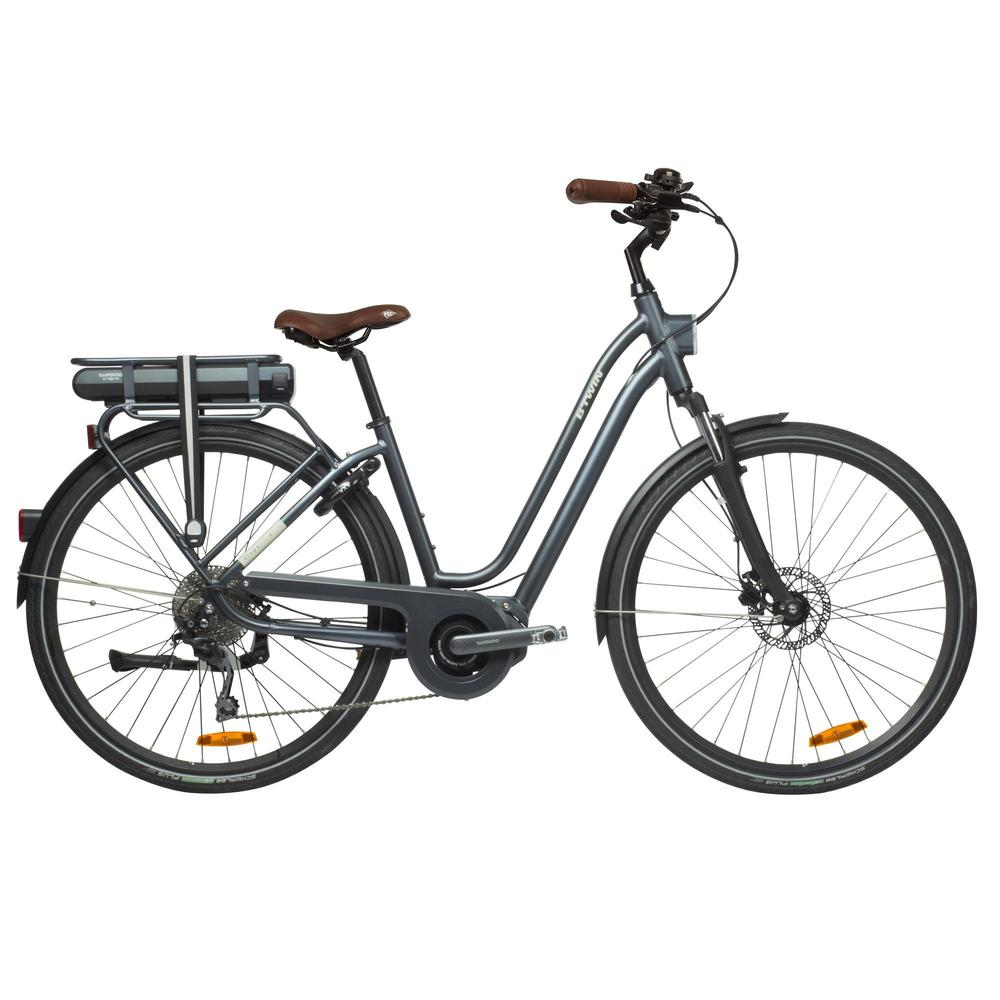UrbanBike: (19, 154, 990, 795)
